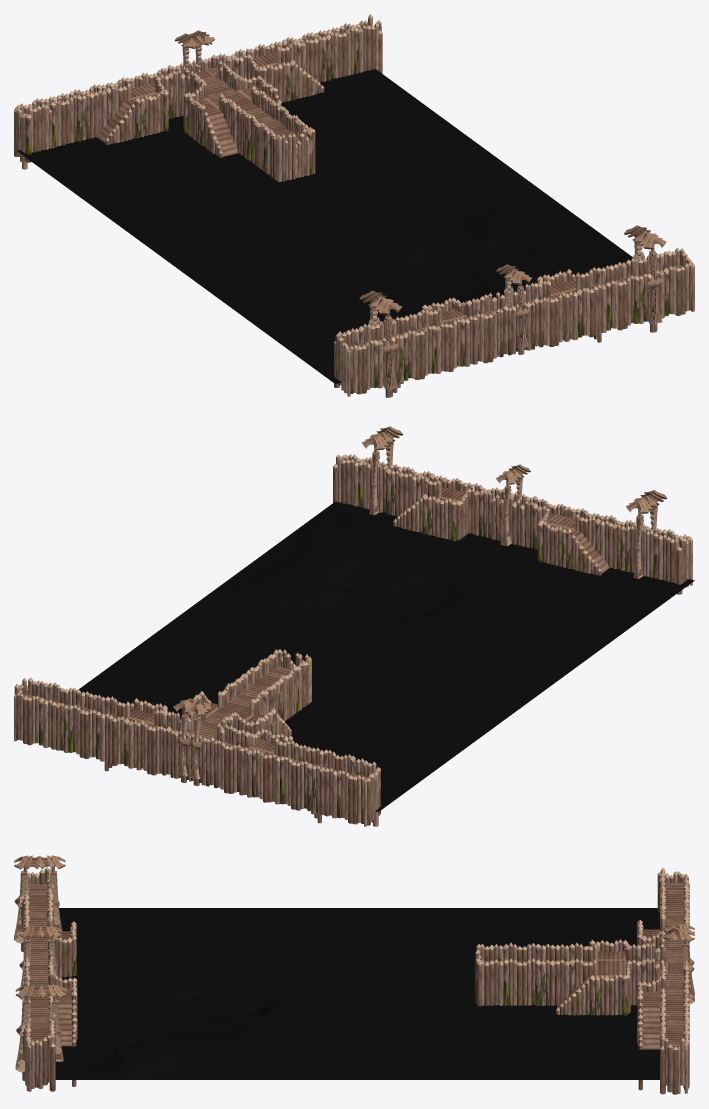
Rendered from Map1Terrain2.FBX.
3 renders of one model, top to bottom at view 1: azimuth 30°, elevation 25°; view 2: azimuth 150°, elevation 25°; view 3: azimuth 270°, elevation 25°, orthographic.
Parts seen in each view (by area): view 1: Terrain2, Wall2Terrain2, Wall1Terrain2, WallPath (×2); view 2: Terrain2, Wall1Terrain2, Wall2Terrain2, WallPath (×2); view 3: Terrain2, Wall1Terrain2, Wall2Terrain2, WallPath (×2).
Part boxes in pixels (x1,y1,x2,y2): Terrain2: (17,69,632,383); Wall2Terrain2: (334,225,694,397); Wall1Terrain2: (14,14,382,181); WallPath (×2): (26,41,681,348); Terrain2: (79,501,694,811); Wall1Terrain2: (14,649,380,826); Wall2Terrain2: (333,426,692,594); WallPath (×2): (24,486,679,779); Terrain2: (55,908,659,1079); Wall1Terrain2: (475,867,694,1094); Wall2Terrain2: (14,855,77,1091); WallPath (×2): (29,882,683,1049).
Size of the model in its own units: 3013 by 922 by 4903.
